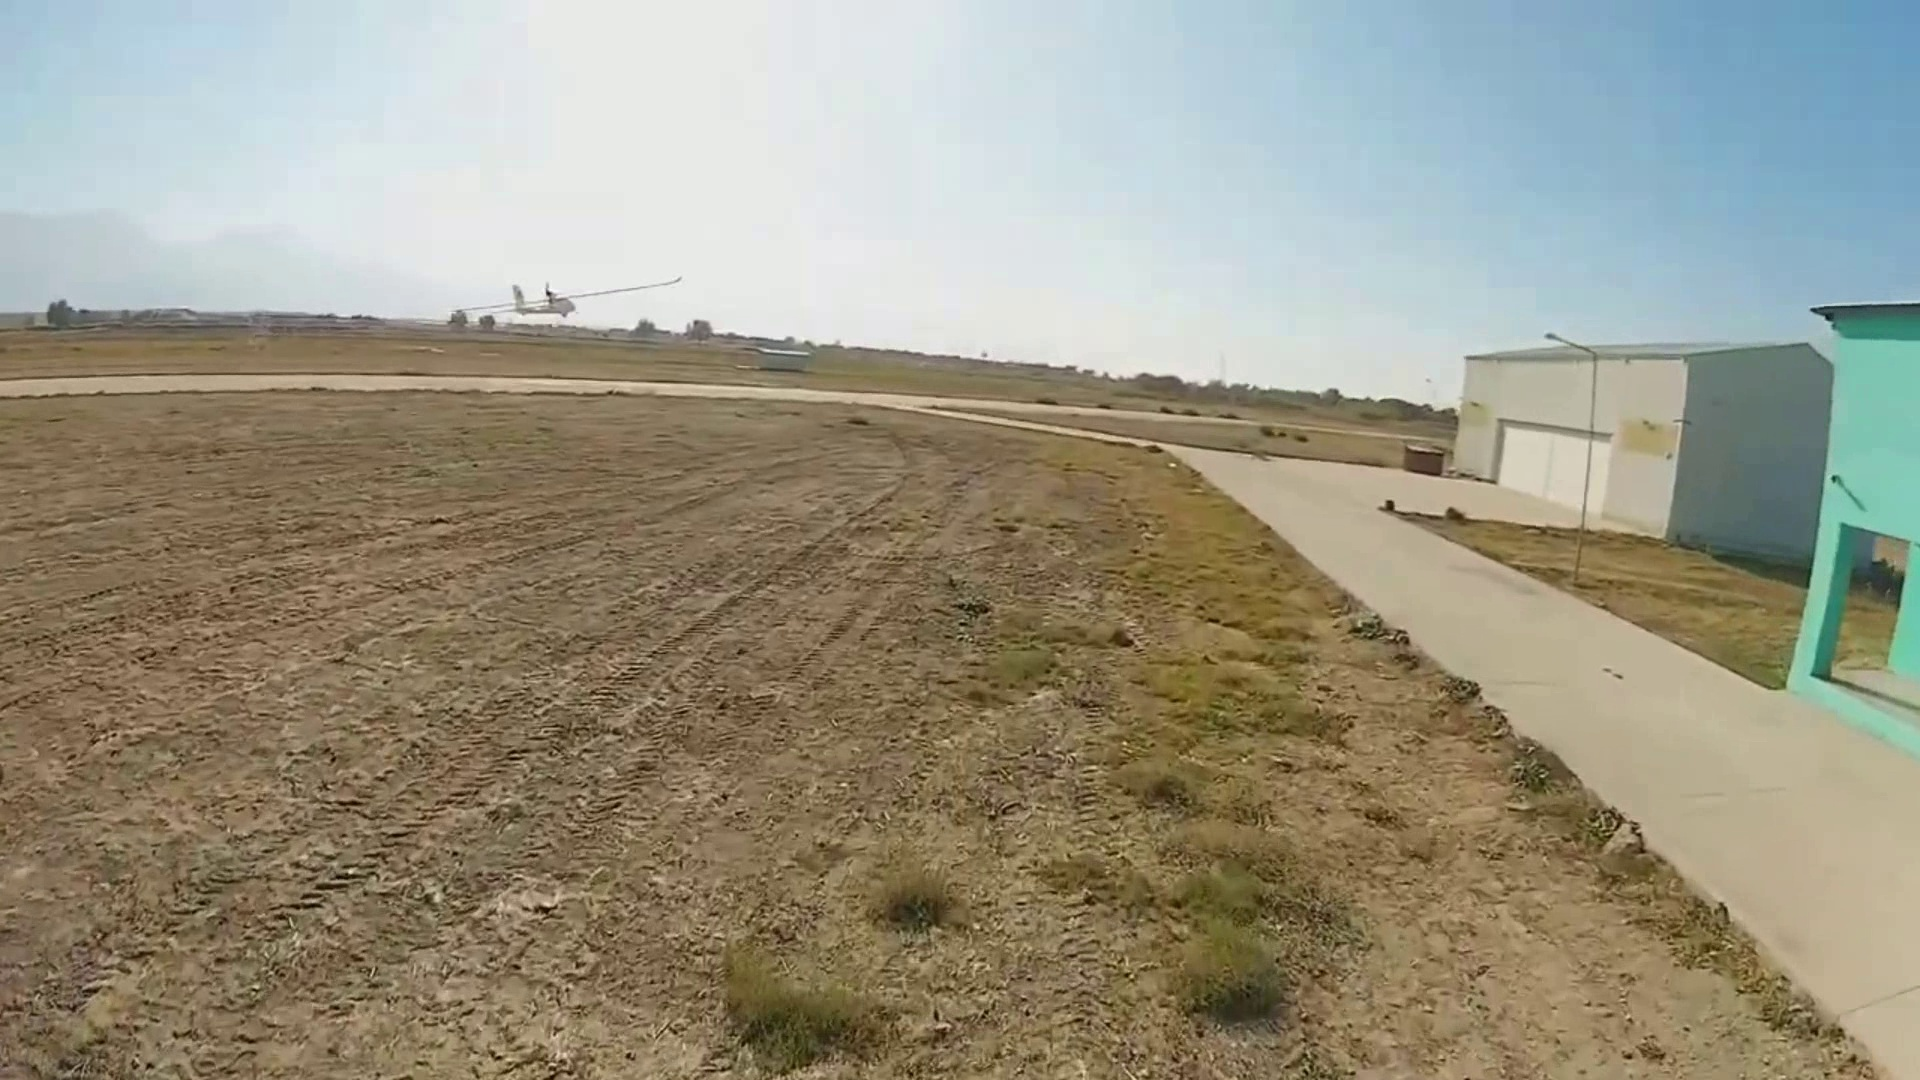airplane: (442, 263, 686, 335)
